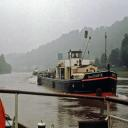tugboat: (37, 29, 120, 104)
